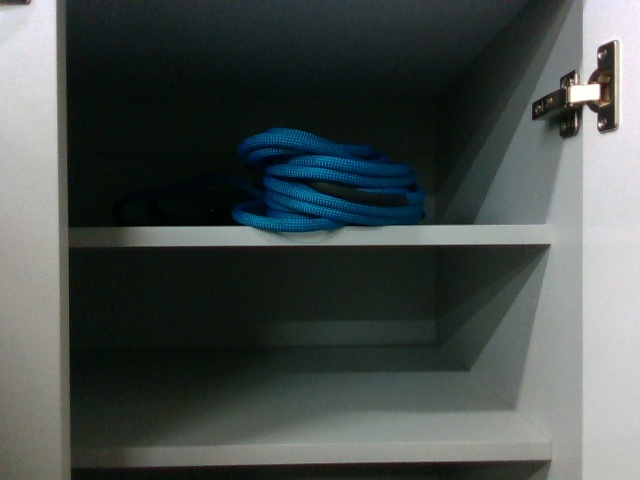rope: (220, 123, 437, 233)
